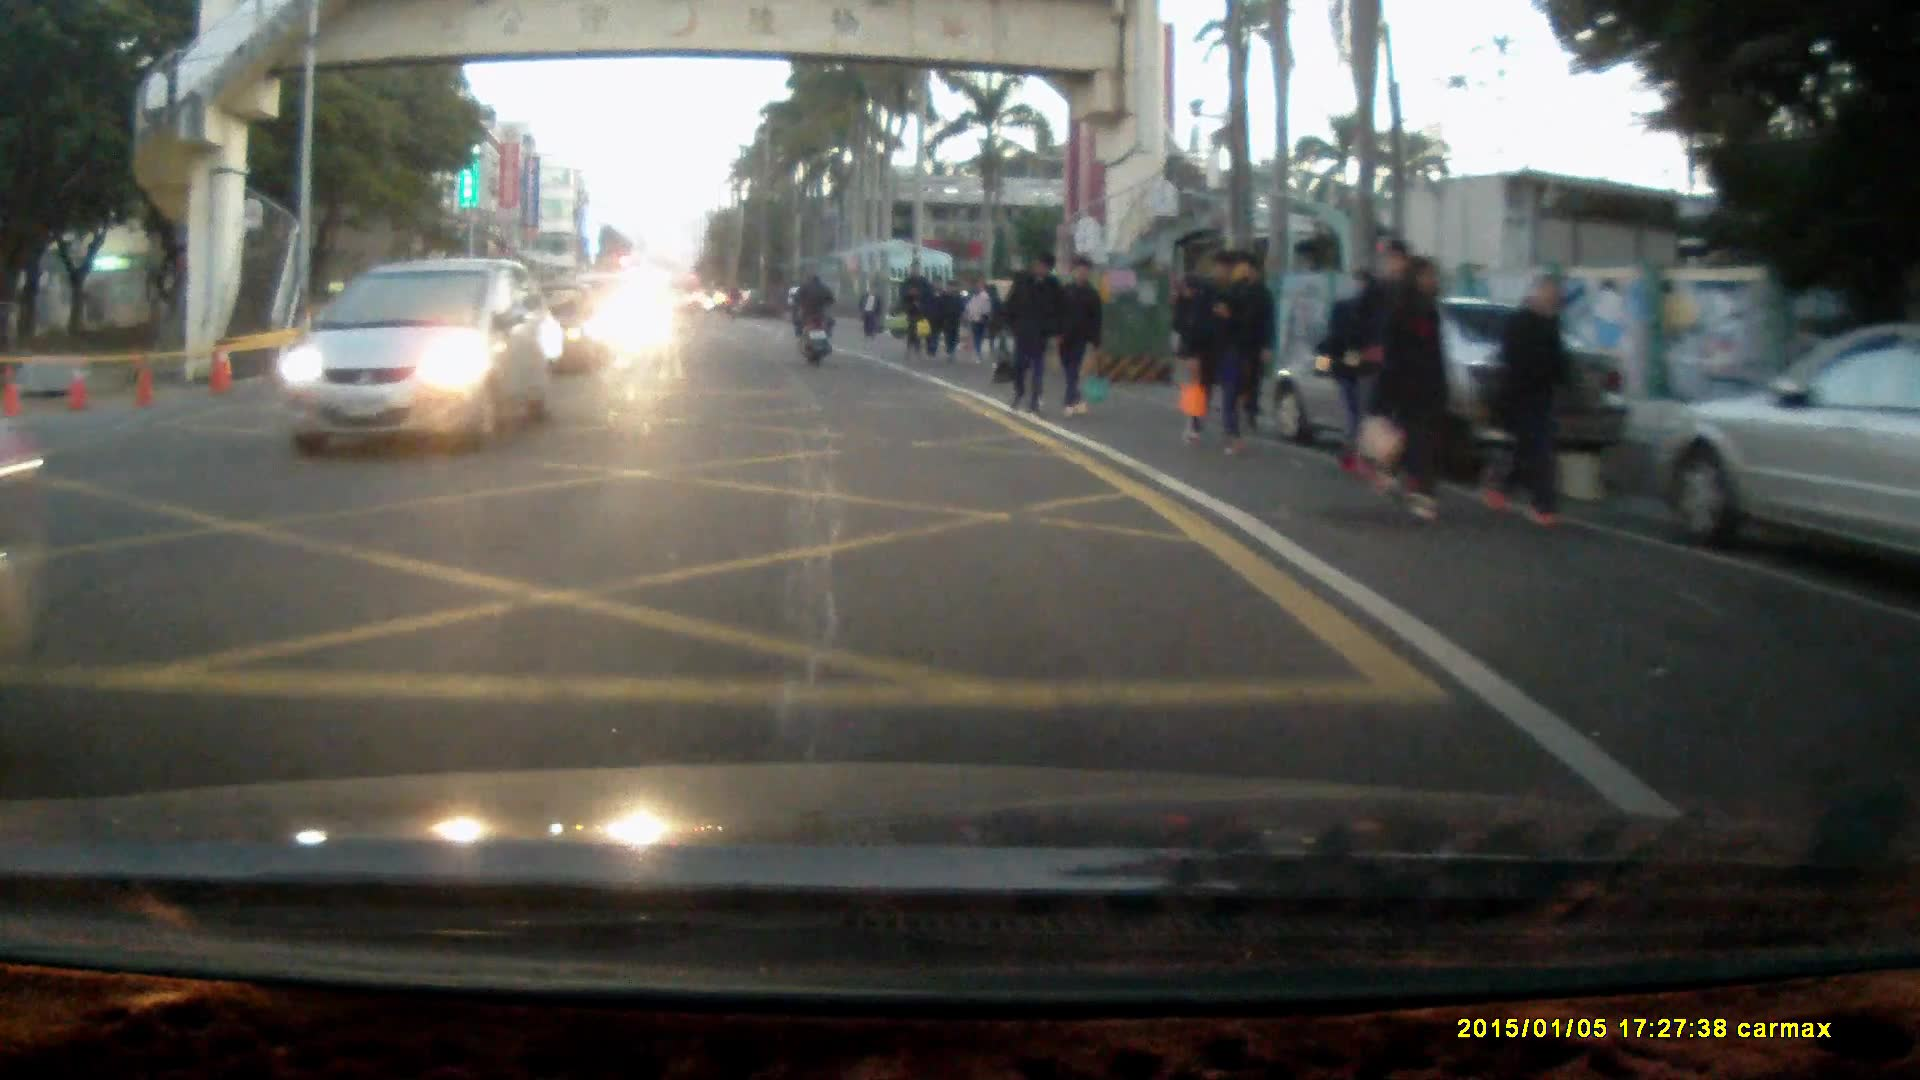pedestrian: (1489, 269, 1578, 527), (1378, 255, 1456, 528), (1350, 236, 1423, 491), (1179, 244, 1248, 456), (1322, 270, 1384, 463), (1004, 246, 1066, 415), (1052, 254, 1108, 423), (964, 273, 999, 365), (896, 260, 929, 359), (916, 272, 951, 351), (859, 279, 882, 344)
rider: (792, 267, 836, 366)
vehicle: (1639, 326, 1920, 606), (1273, 297, 1630, 470), (278, 253, 559, 465)
